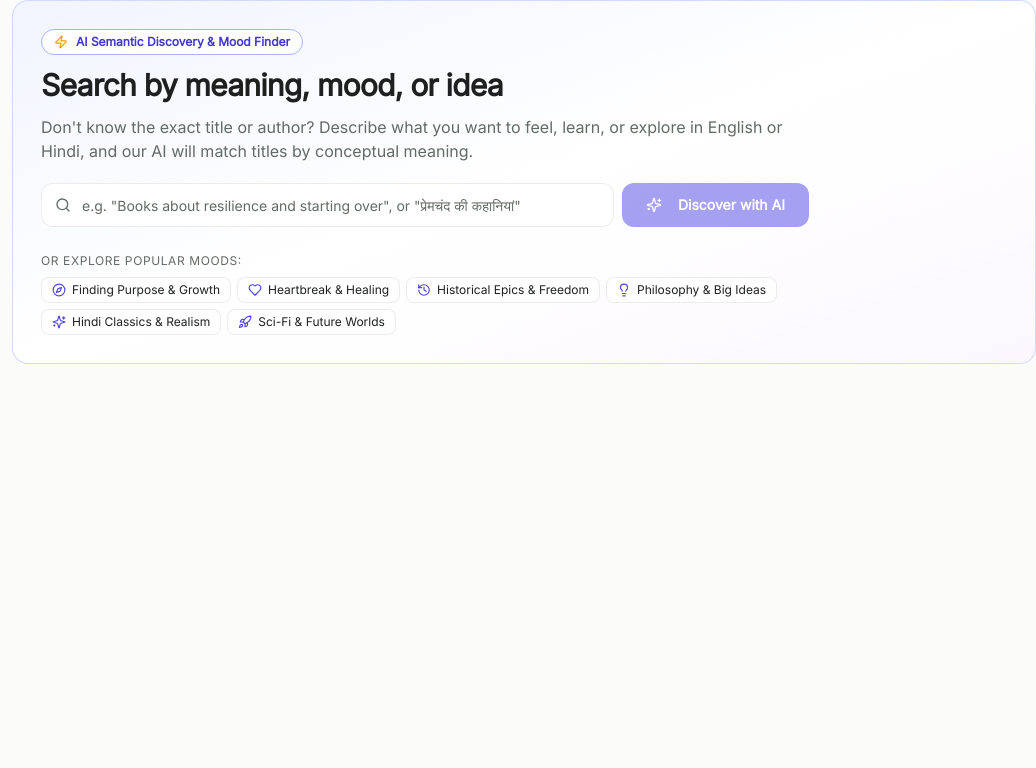
Test case: SemanticBookDiscovery › performs semantic search and displays matched titles and curator notes
The image size is (1036, 768).
Replace the text in the field with placeholder "Books about resilience" with "social justice and realism" at (328, 205), box [41,183,614,227]
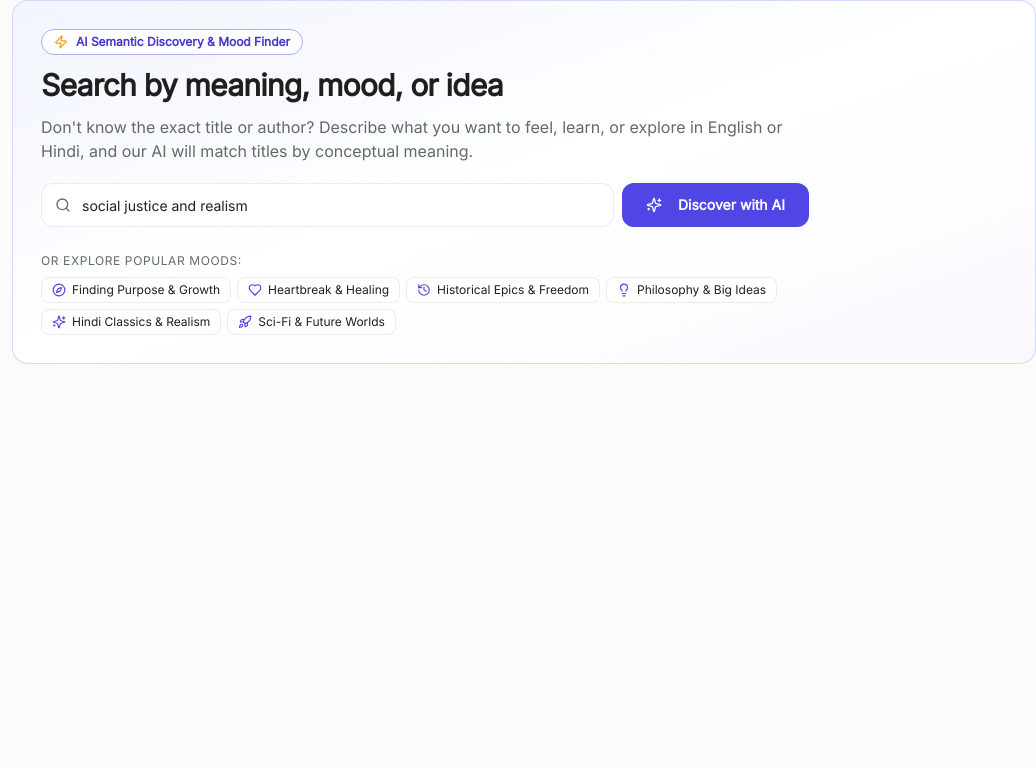
Click the button "Discover with AI" at (716, 205), box [622,183,809,227]
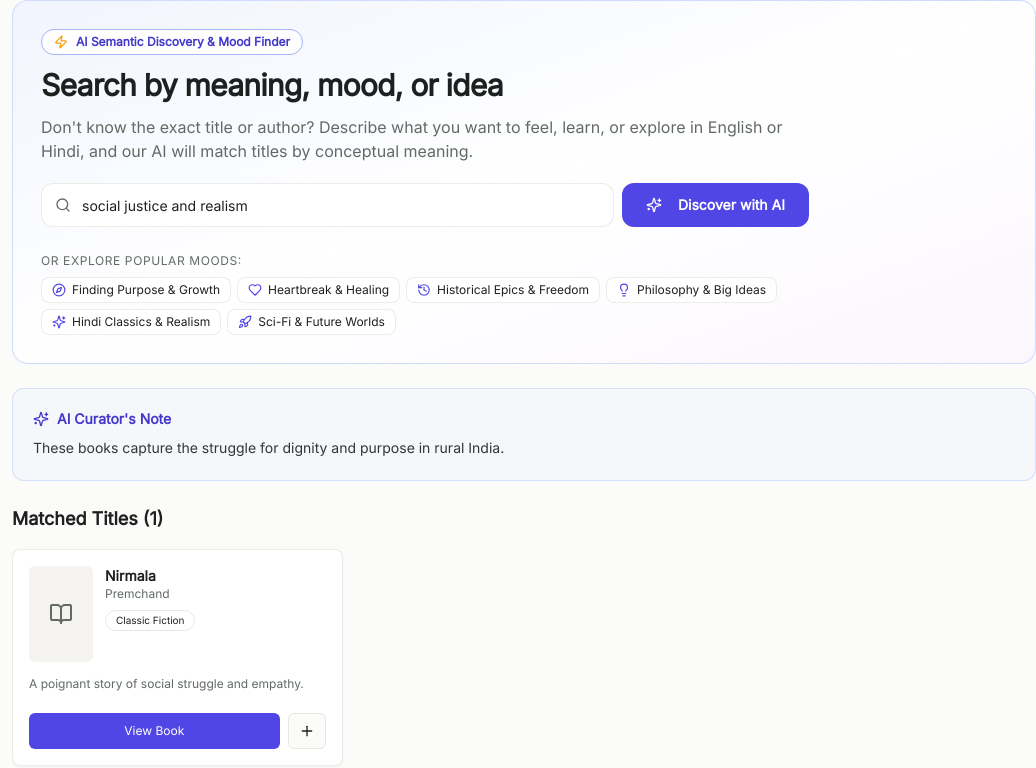
Check: the text "These books capture the struggle for dignity" is shown, box [33,439,504,456]
Check: the link "Nirmala" is shown, box [105,567,156,584]
Check: the text "Premchand" is shown, box [105,586,170,601]
